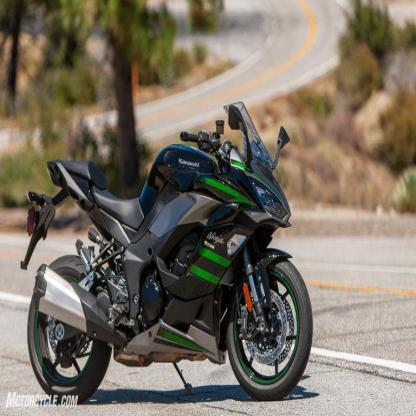Motorcycle: (9, 98, 314, 397)
